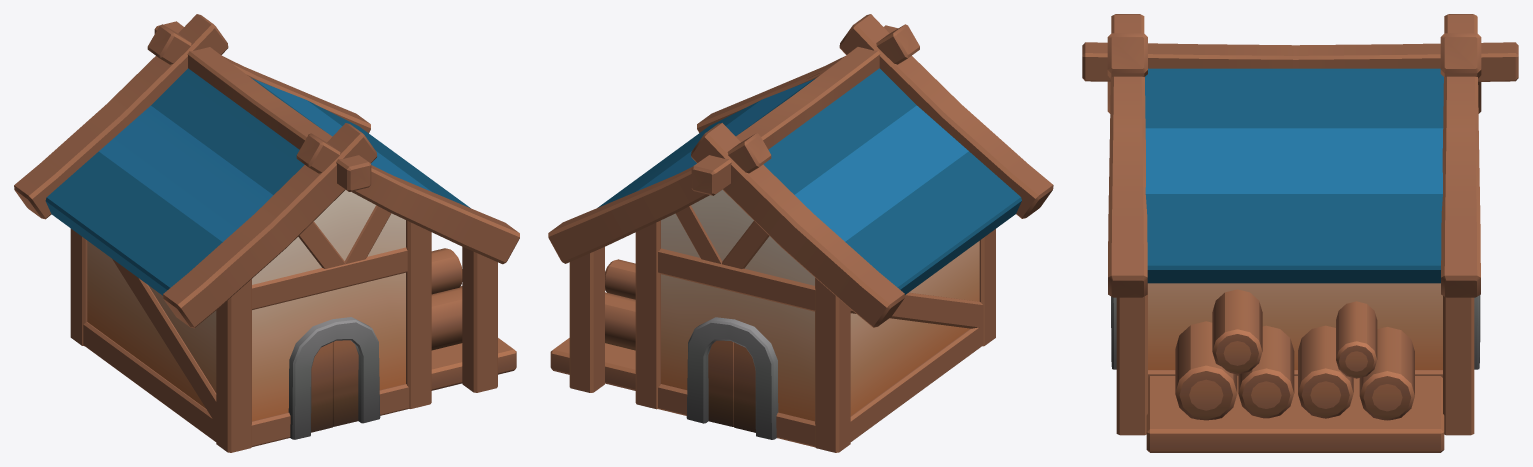
Rendered from WareHouse_2.fbx.
3 views of the same model, side by side, from view 1: azimuth 30°, elevation 25°; view 2: azimuth 150°, elevation 25°; view 3: azimuth 270°, elevation 25° (orthographic). The views are drawn at different scales.
Visible parts, largest first — view 1: WareHouse_2; view 2: WareHouse_2; view 3: WareHouse_2.
Part boxes in pixels (x1,y1,x2,y2): WareHouse_2: (14, 14, 519, 452); WareHouse_2: (548, 14, 1053, 452); WareHouse_2: (1082, 14, 1518, 452).
Bounding box in the file's own units: 200 × 156 × 190.
